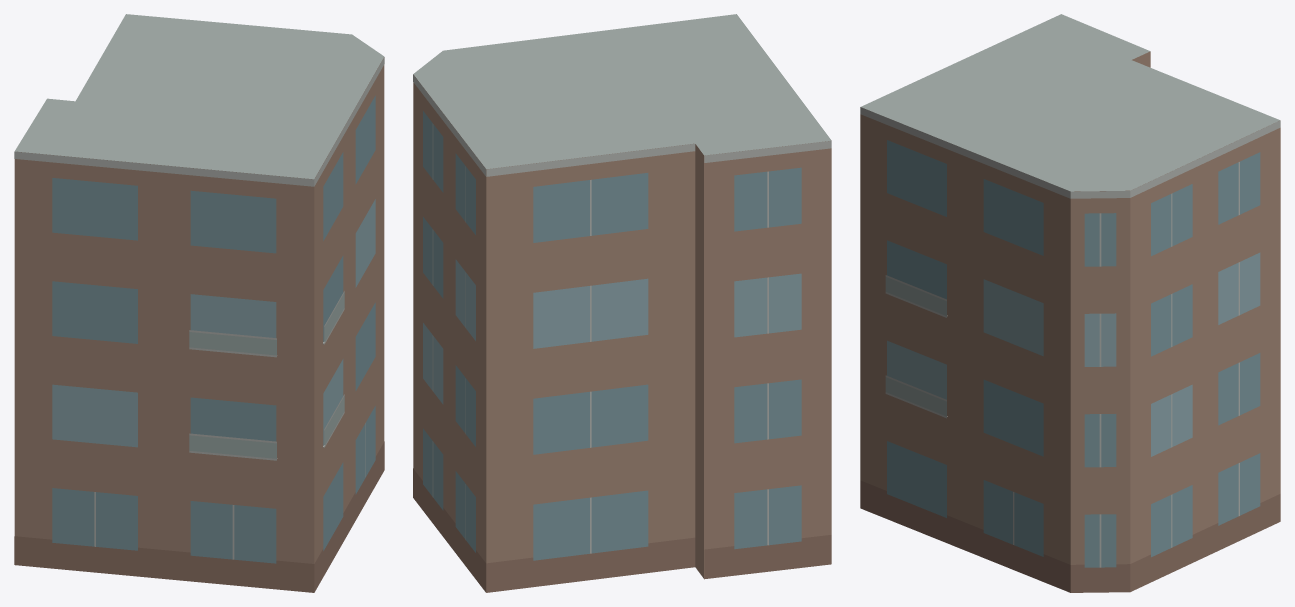
File: survey-upis-32519995.glb
3 renders of one model, left to right at view 1: azimuth 30°, elevation 25°; view 2: azimuth 150°, elevation 25°; view 3: azimuth 270°, elevation 25°, orthographic. The views are drawn at different scales.
Parts seen in each view (by area): view 1: survey-upis-32519995.tmp; view 2: survey-upis-32519995.tmp; view 3: survey-upis-32519995.tmp.
Boxes of the visible parts, box(x1,y1,x2,y2) form: survey-upis-32519995.tmp: box(14, 14, 384, 592); survey-upis-32519995.tmp: box(413, 14, 831, 592); survey-upis-32519995.tmp: box(860, 14, 1280, 592).
Size of the model in its own units: 12.81 by 13.5 by 12.81.
